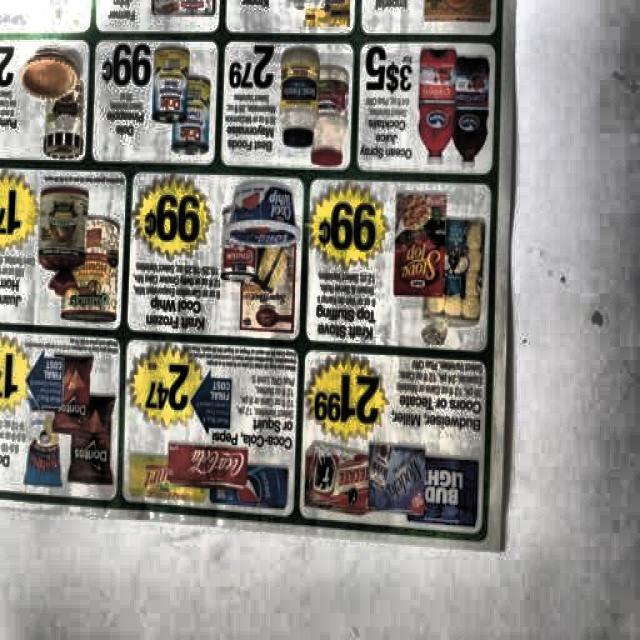paper: (0, 0, 507, 549)
